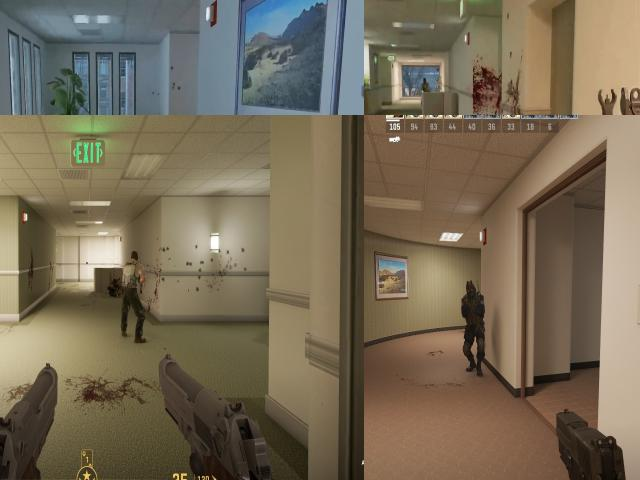CT: (464, 280, 484, 374)
CT-Head: (467, 281, 476, 295)
Dead: (109, 276, 122, 301)
T: (123, 249, 144, 335), (421, 75, 430, 93)
T-Head: (130, 251, 140, 262), (422, 75, 428, 86)
